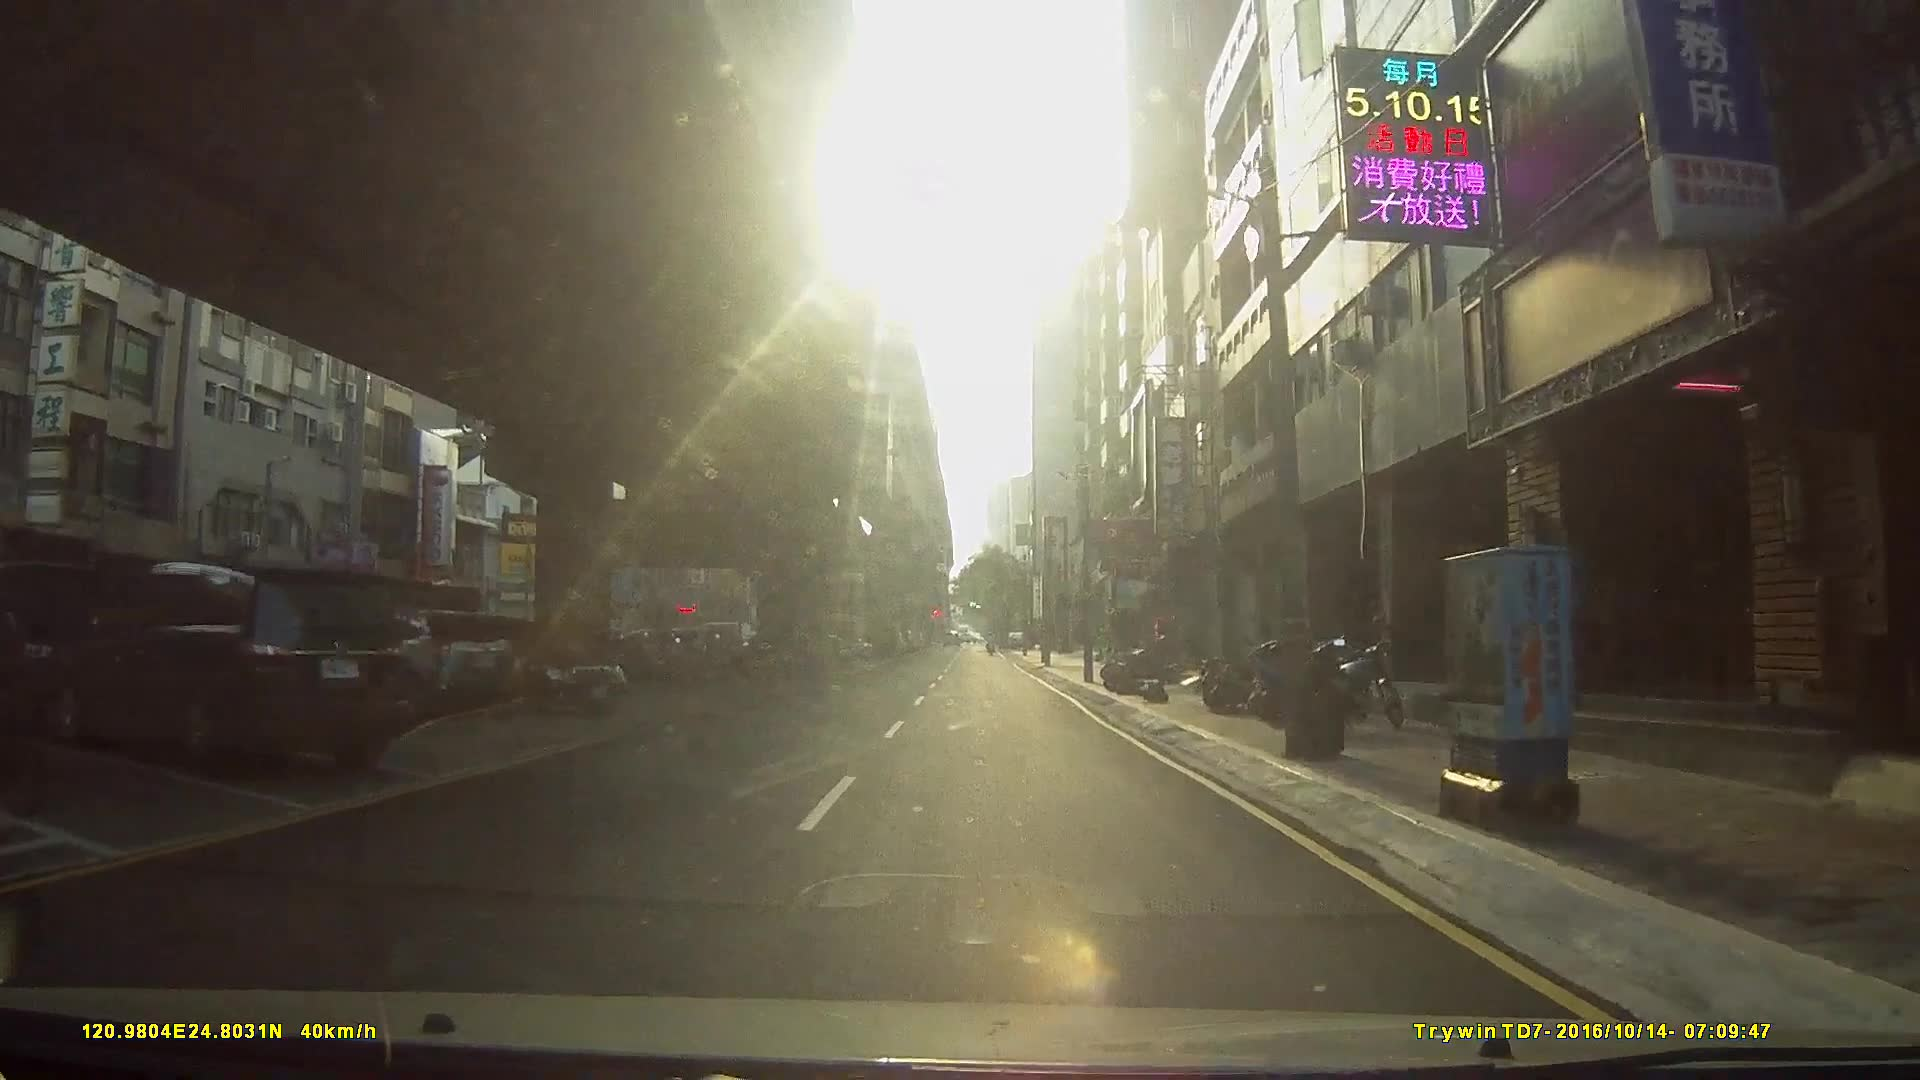vehicle: (37, 553, 406, 771), (327, 609, 520, 713), (415, 618, 626, 709)
